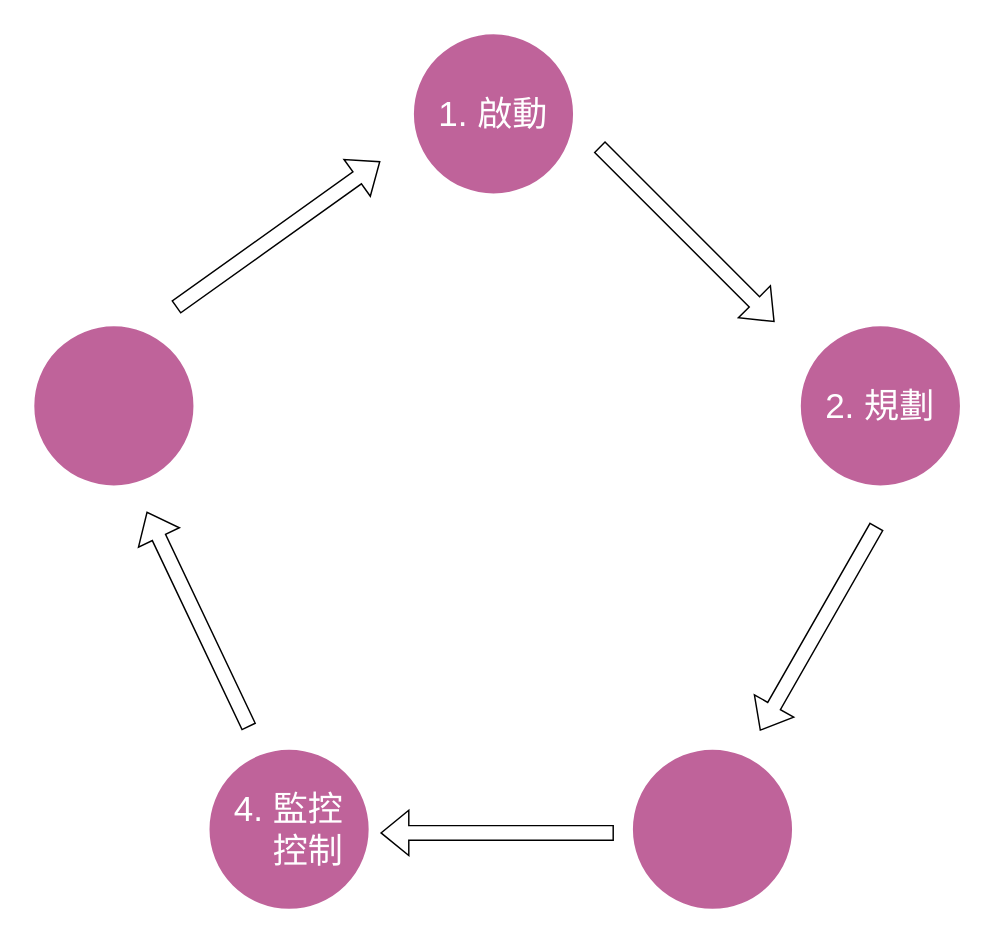
The diagram is 993 pixels wide and 942 high, and some of its shapes have lost their labels. Each missing label, with the box of its shape:
3. 執行: (623, 740, 800, 917)
5. 結案: (25, 317, 201, 493)
